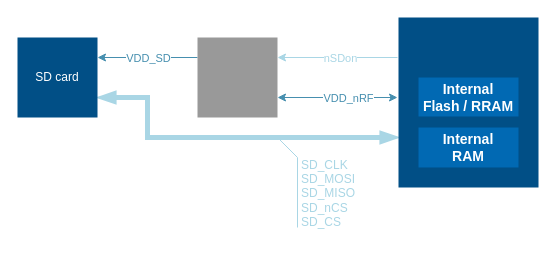
Image size: 555x255. Some labels were removed from this diagram. The box of each missing label's shape, as (x1, y1, x2, y2) in pixels:
MCU nRF54L15: (398, 17, 538, 187)
MOS-P SD power source: (197, 37, 277, 117)
